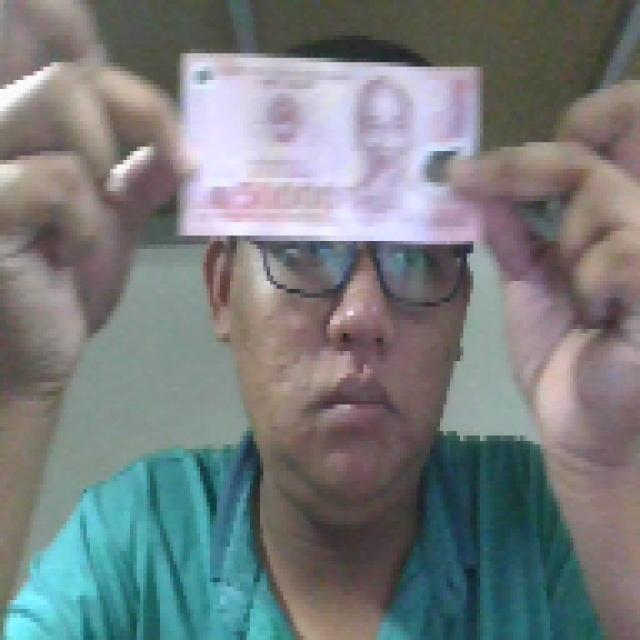50 000 VND: (173, 44, 487, 244)
